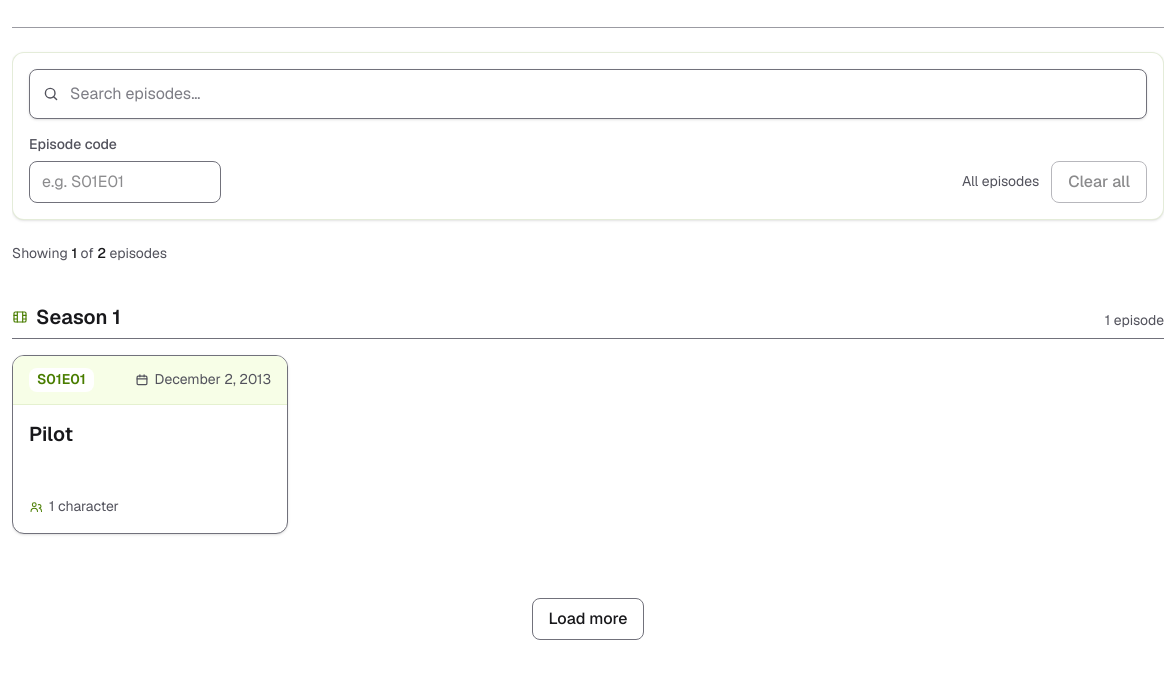
EpisodeBrowser (integration: filter bar + results + GraphQL layer) › merges a second page onto the first via the real cache policy
(page scrolled)
Check: the heading "Pilot" is shown, box [29, 421, 73, 447]
Click the button "Load more": (588, 619) [532, 598, 644, 640]
(page scrolled)
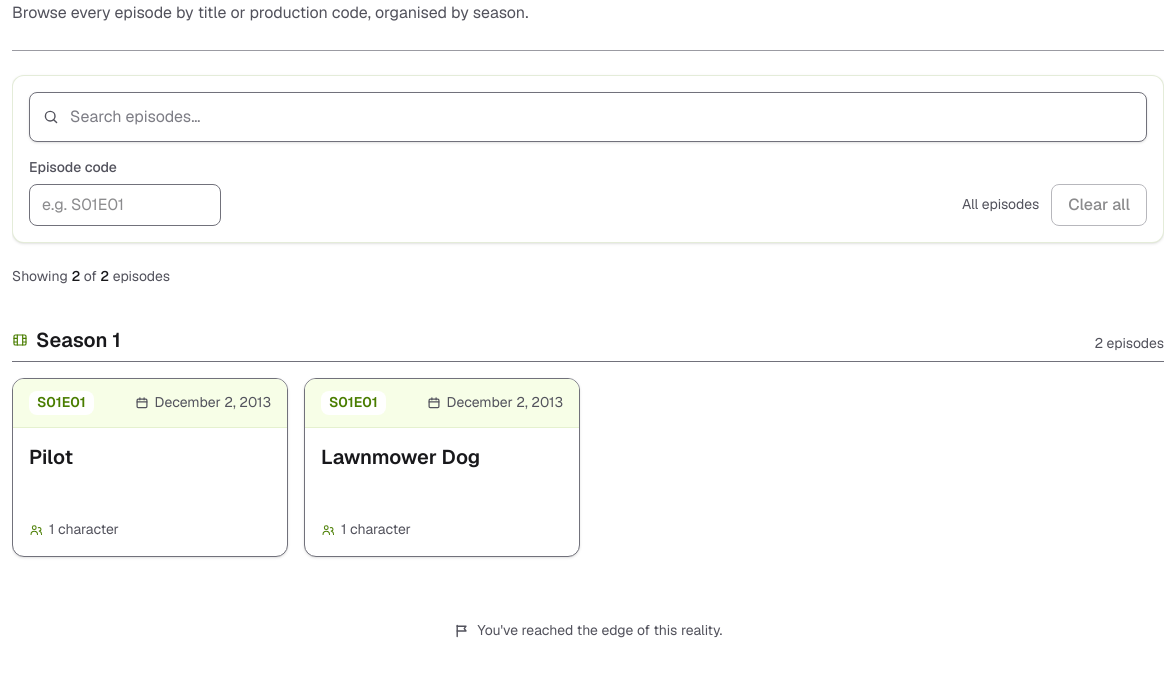
Check: the heading "Pilot" is shown, box [29, 444, 73, 470]
Check: the heading "Lawnmower Dog" is shown, box [321, 444, 480, 470]
